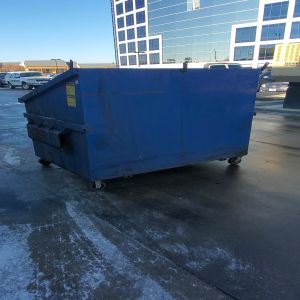Dumpster: (21, 69, 263, 191)
